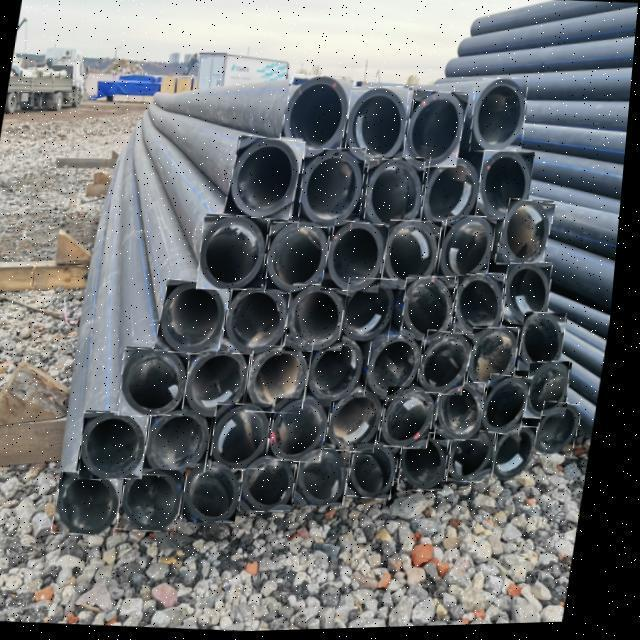pipe: (228, 136, 308, 222), (280, 75, 356, 160), (161, 280, 236, 356), (226, 284, 298, 358), (404, 92, 471, 171), (302, 151, 368, 230), (202, 217, 273, 290), (348, 89, 411, 169), (150, 409, 222, 478), (326, 222, 394, 295), (87, 411, 156, 480), (190, 348, 258, 418), (60, 472, 133, 537), (126, 349, 195, 417), (251, 347, 318, 416), (270, 223, 334, 295), (424, 159, 486, 233), (368, 160, 428, 235), (126, 469, 194, 534), (274, 399, 339, 465), (291, 286, 354, 353), (499, 201, 559, 271), (473, 81, 530, 154), (441, 218, 501, 286), (386, 223, 446, 291), (479, 154, 538, 222), (218, 405, 279, 470), (311, 341, 372, 405), (333, 391, 393, 455), (421, 333, 480, 398), (345, 279, 403, 344), (371, 337, 429, 401), (190, 465, 251, 524), (386, 390, 444, 452), (302, 447, 360, 508), (407, 279, 461, 343), (249, 455, 306, 513), (354, 442, 409, 502), (486, 377, 539, 438), (460, 276, 510, 340), (474, 330, 525, 389), (509, 266, 557, 327), (524, 316, 573, 375), (407, 436, 457, 493), (442, 386, 492, 442), (540, 405, 590, 460), (455, 431, 504, 485), (533, 365, 577, 421), (500, 430, 545, 482)
